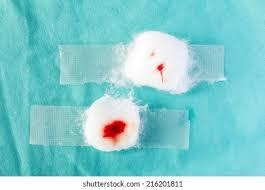Bandage: (59, 31, 224, 93), (30, 96, 189, 150)
cotton: (0, 0, 264, 175), (124, 31, 191, 92), (84, 96, 139, 150), (30, 105, 89, 145)
